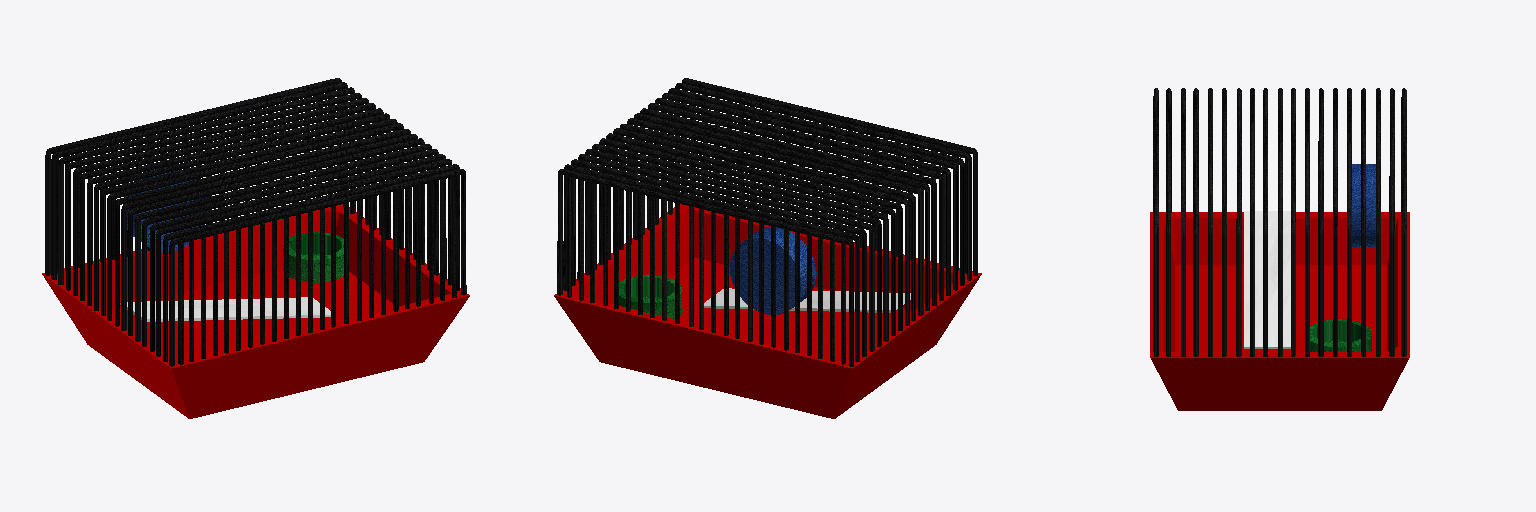
3 views of the same model, side by side, from view 1: azimuth 30°, elevation 25°; view 2: azimuth 150°, elevation 25°; view 3: azimuth 270°, elevation 25° (orthographic).
Parts seen in each view (by area): view 1: tazon; view 2: tazon; view 3: tazon.
Boxes of the visible parts, box(x1,y1,x2,y2) form: tazon: box(42, 78, 469, 418); tazon: box(554, 78, 981, 418); tazon: box(1150, 88, 1409, 410).
Bounding box in the file's own units: 4.95 × 3.09 × 3.73.
5 materials, 5 textured.